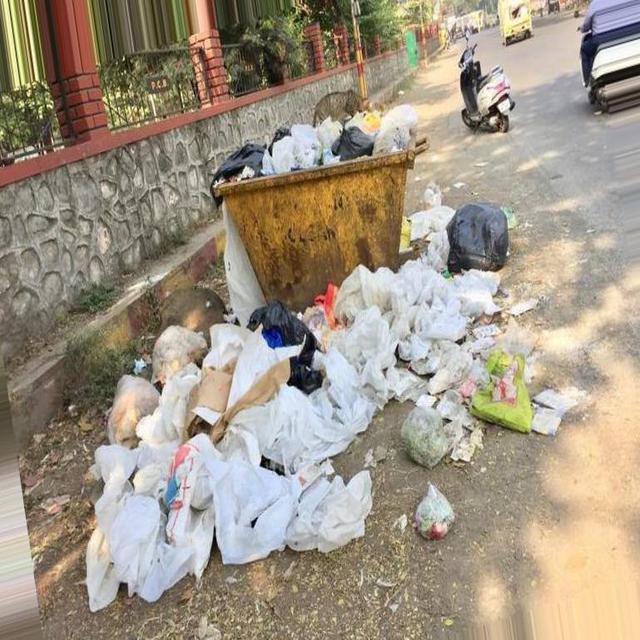garbage: (50, 285, 480, 606), (393, 183, 606, 434), (203, 110, 418, 175), (210, 202, 272, 305)
